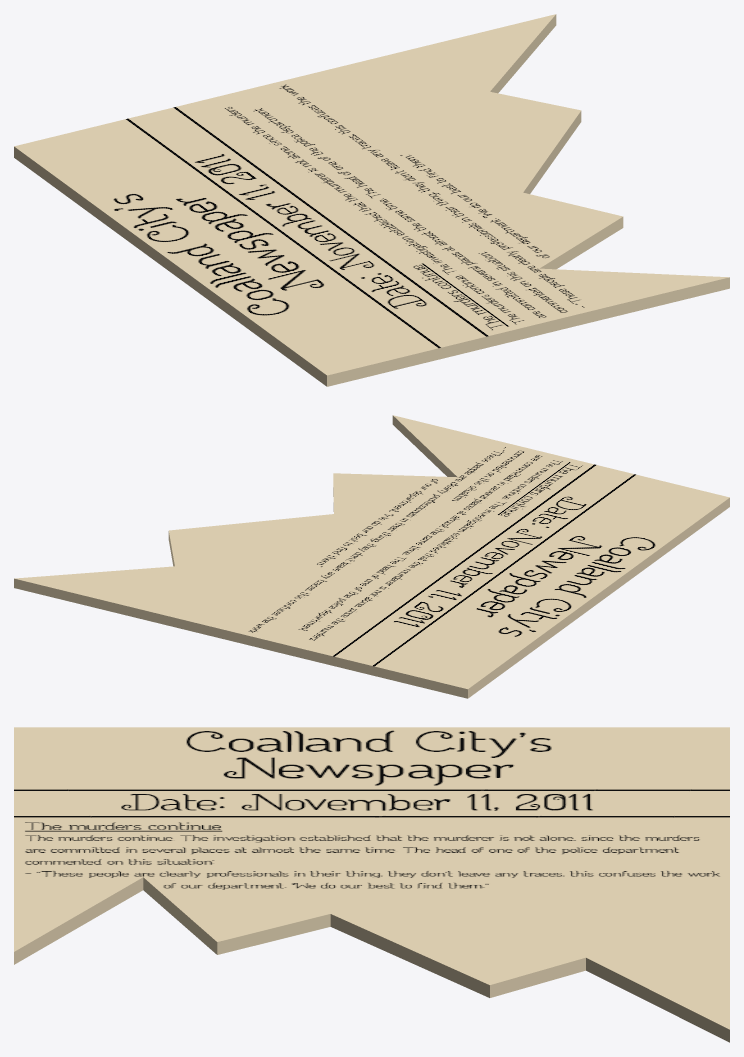
Rendered from Newspaper.fbx.
3 renders of one model, top to bottom at view 1: azimuth 30°, elevation 25°; view 2: azimuth 150°, elevation 25°; view 3: azimuth 270°, elevation 25°, orthographic. The views are drawn at different scales.
Parts seen in each view (by area): view 1: Cube; view 2: Cube; view 3: Cube.
Boxes of the visible parts, x1,y1,x2,y2 form: Cube: (14,14,729,386); Cube: (14,415,729,698); Cube: (14,727,729,1042).
Size of the model in its own units: 200 by 4 by 200.
